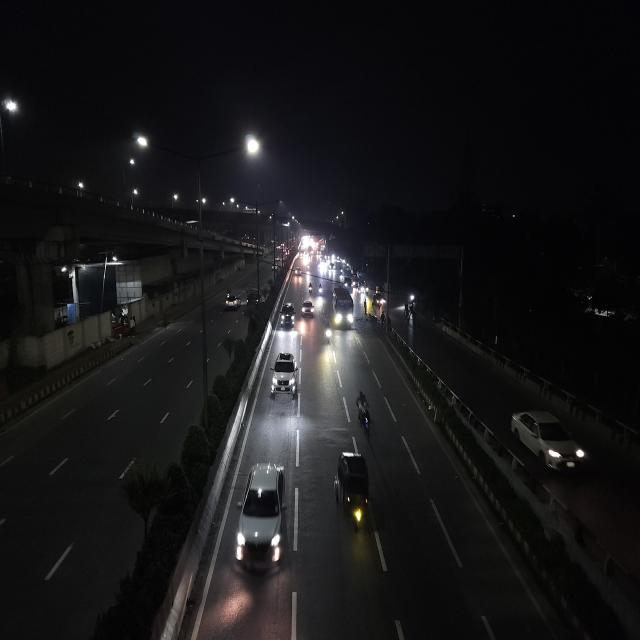bus: (331, 281, 354, 333)
car: (234, 458, 288, 577), (507, 405, 589, 480), (269, 349, 297, 402), (280, 300, 296, 331), (222, 288, 242, 312), (246, 286, 262, 308), (301, 298, 315, 319), (293, 266, 303, 280)
cng: (332, 447, 372, 533), (372, 293, 384, 309)
motorcycle: (353, 388, 372, 434), (323, 322, 333, 348), (307, 281, 315, 298), (318, 282, 322, 299)
pedestrian: (363, 298, 369, 315), (380, 311, 385, 330)
